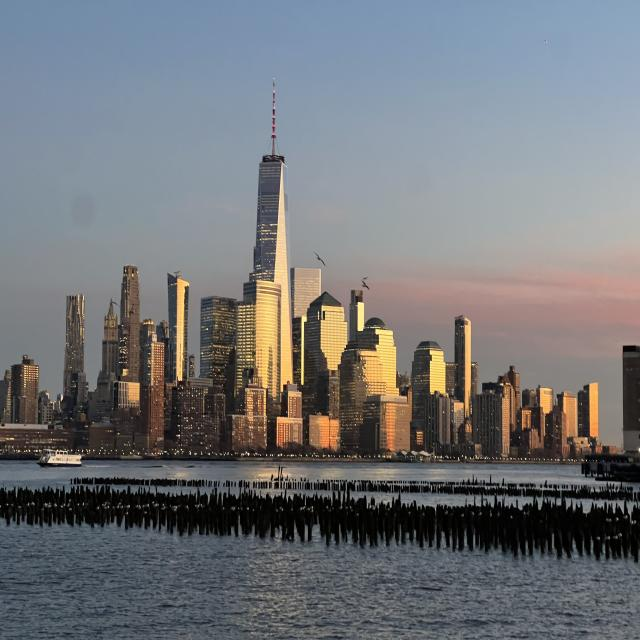WTC: (251, 77, 289, 284)
